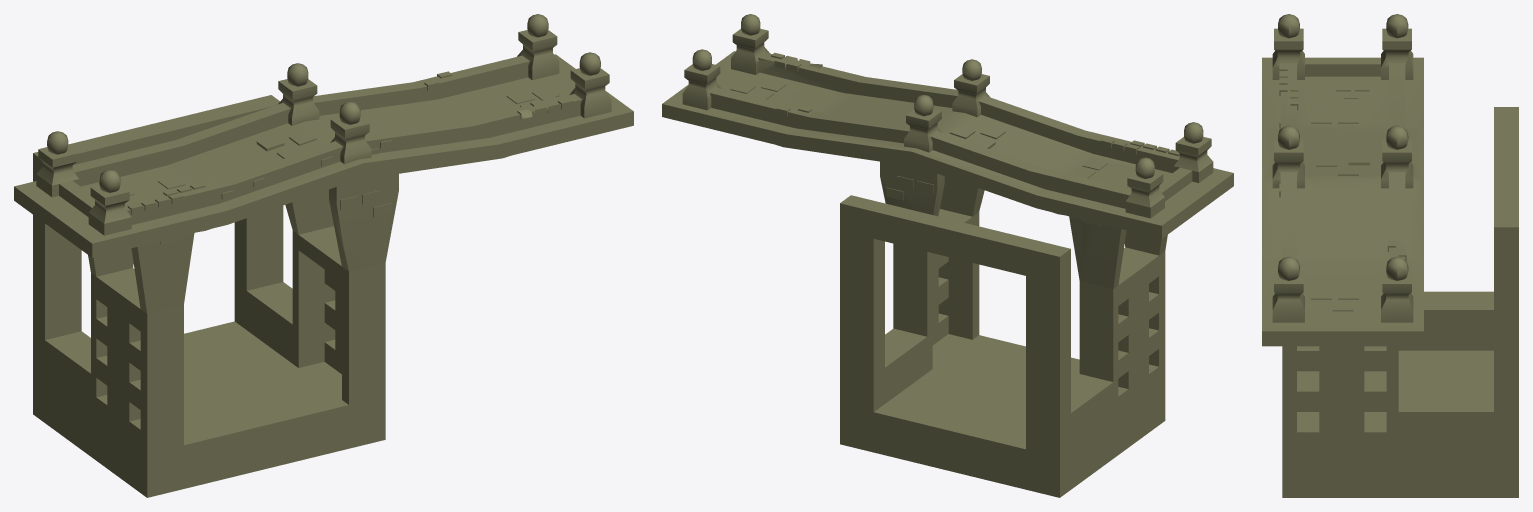
The model's file is rock_bridge01 1.fbx.
3 views of the same model, side by side, from view 1: azimuth 30°, elevation 25°; view 2: azimuth 150°, elevation 25°; view 3: azimuth 270°, elevation 25° (orthographic). The views are drawn at different scales.
Visible parts, largest first — view 1: rock_bridge01pilars, rock_bridge01main; view 2: rock_bridge01pilars, rock_bridge01main; view 3: rock_bridge01main, rock_bridge01pilars.
Part boxes in pixels (x1,y1,x2,y2): rock_bridge01pilars: (33, 95, 398, 497); rock_bridge01main: (14, 14, 633, 257); rock_bridge01pilars: (840, 161, 1167, 497); rock_bridge01main: (662, 14, 1233, 238); rock_bridge01main: (1262, 14, 1423, 346); rock_bridge01pilars: (1282, 107, 1518, 497).
Size of the model in its own units: 13.7 by 8.28 by 5.43.
